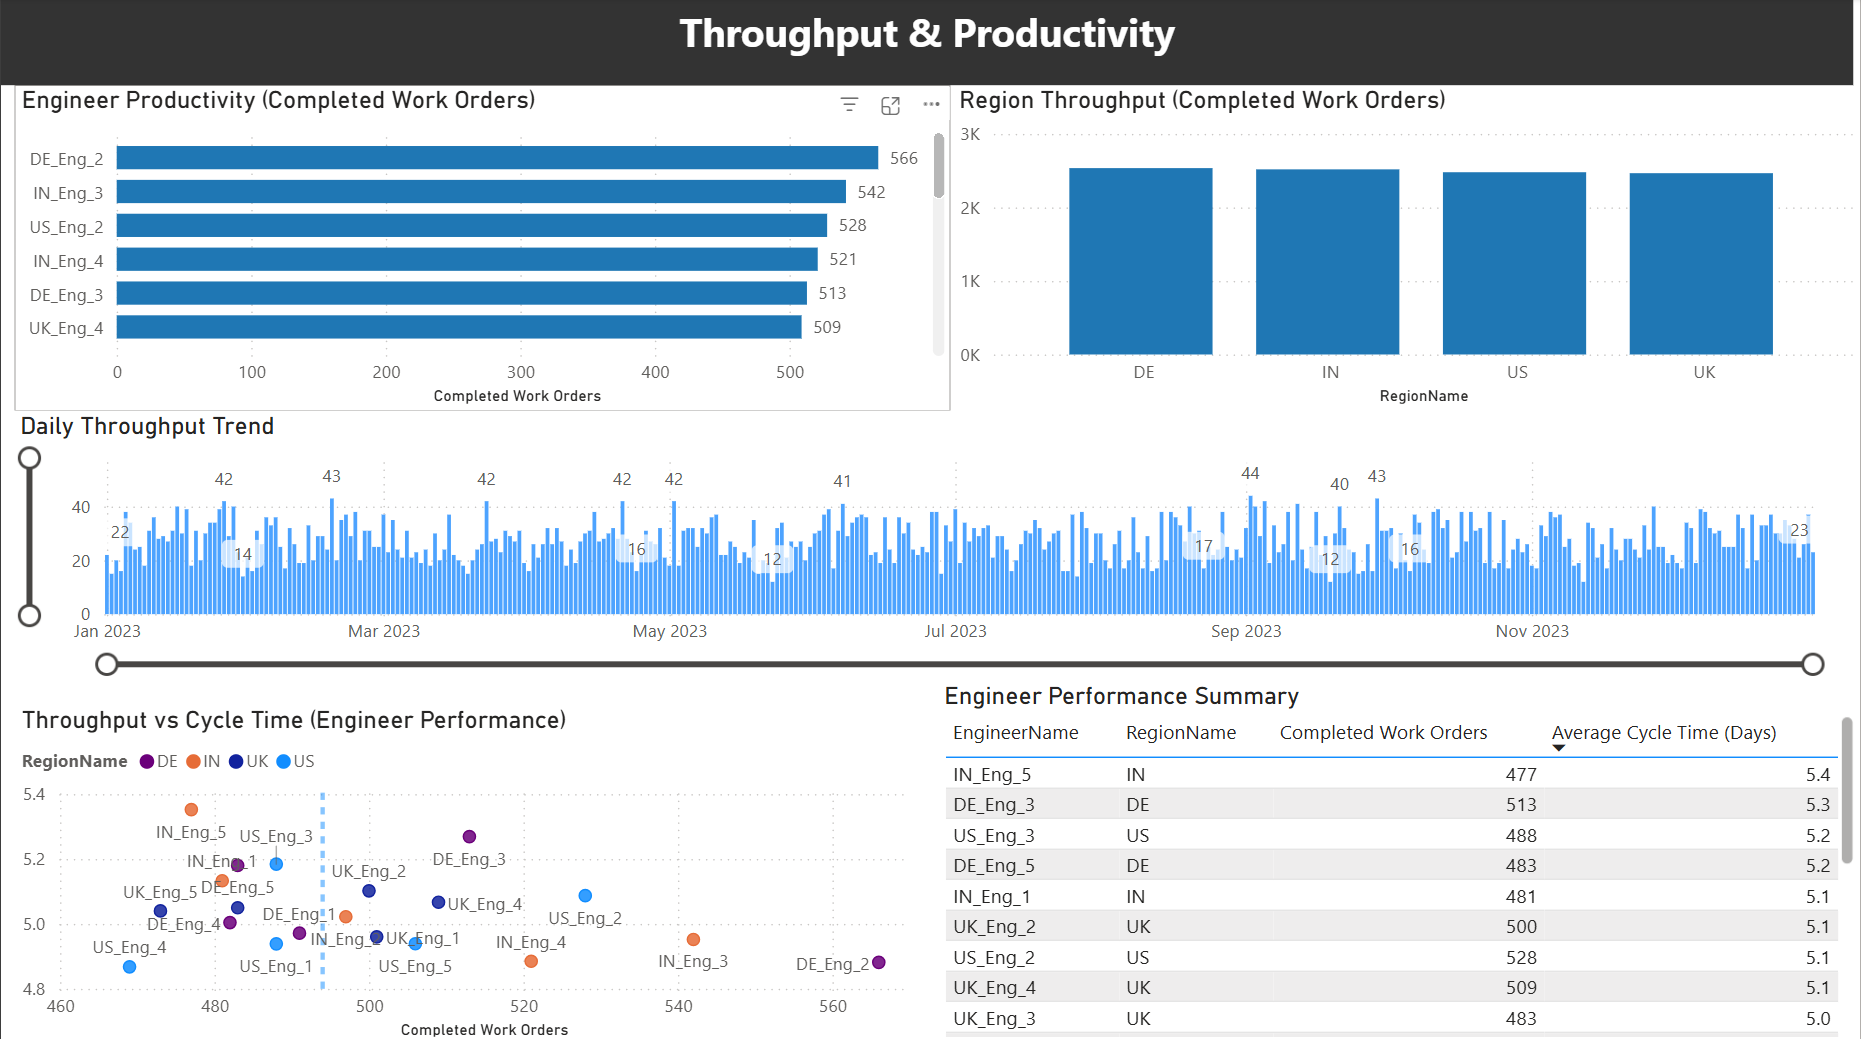

The dashboard page shown, as its layout file describes it:
{"tool":"powerbi","page":{"name":"Throughput & Productivity","canvas":[1280,720],"ordinal":2},"visuals":[{"type":"clusteredBarChart","title":"Engineer Productivity (Completed Work Orders)","fields":{"Category":["Dim_Engineers.EngineerName"],"Y":["_Measures (2).Completed Work Orders"]},"box":[9.2,59.9,644.7,224.1],"z":0},{"type":"clusteredColumnChart","title":"Region Throughput (Completed Work Orders)","fields":{"Category":["Dim_Regions.RegionName"],"Y":["_Measures (2).Completed Work Orders"]},"box":[654.8,59.9,625.3,224.1],"z":1000},{"type":"lineStackedColumnComboChart","title":"Daily Throughput Trend","fields":{"Category":["Dim_Date.Date"],"Y":["_Measures (2).Completed Work Orders"]},"box":[8.3,283.9,1270.7,185.8],"z":2000},{"type":"scatterChart","title":"Throughput vs Cycle Time (Engineer Performance)","fields":{"X":["_Measures (2).Completed Work Orders"],"Y":["_Measures (2).Average Cycle Time (Days)"],"Series":["Dim_Regions.RegionName"],"Category":["Dim_Engineers.EngineerName"]},"box":[9.3,486.2,630.7,234.3],"z":3000},{"type":"tableEx","title":"Engineer Performance Summary","fields":{"Values":["Dim_Engineers.EngineerName","Dim_Regions.RegionName","_Measures (2).Completed Work Orders","_Measures (2).Average Cycle Time (Days)"]},"box":[644.1,469.7,635.9,250.8],"z":4000},{"type":"textbox","box":[0,0,1274.8,59.9],"z":5000}]}

Visuals, with their boxes in screenshot pixels (x1, y1, x2, y2), scaled from the page's 1280x720 canvas onto the 1861x1039 screenshot:
"Engineer Productivity (Completed Work Orders)" clusteredBarChart: <region>13, 86, 951, 410</region>
"Region Throughput (Completed Work Orders)" clusteredColumnChart: <region>952, 86, 1860, 410</region>
"Daily Throughput Trend" lineStackedColumnComboChart: <region>12, 410, 1860, 678</region>
"Throughput vs Cycle Time (Engineer Performance)" scatterChart: <region>14, 702, 930, 1038</region>
"Engineer Performance Summary" tableEx: <region>936, 678, 1860, 1038</region>
textbox: <region>0, 0, 1853, 86</region>
